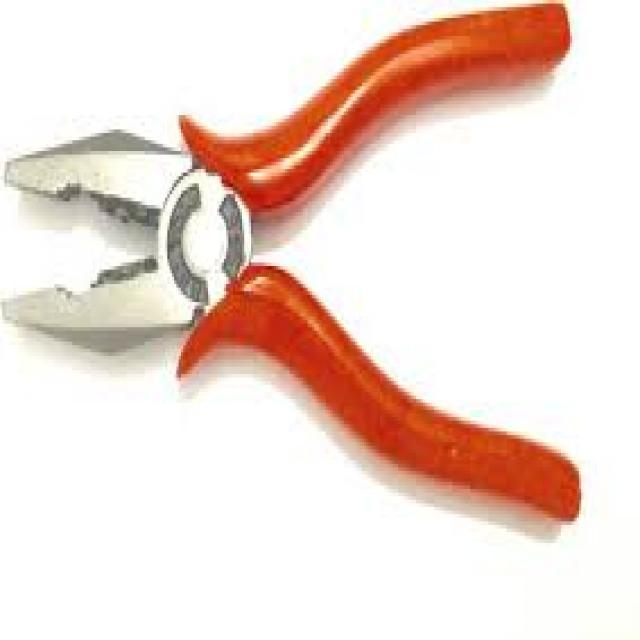pliers: (4, 0, 601, 544)
